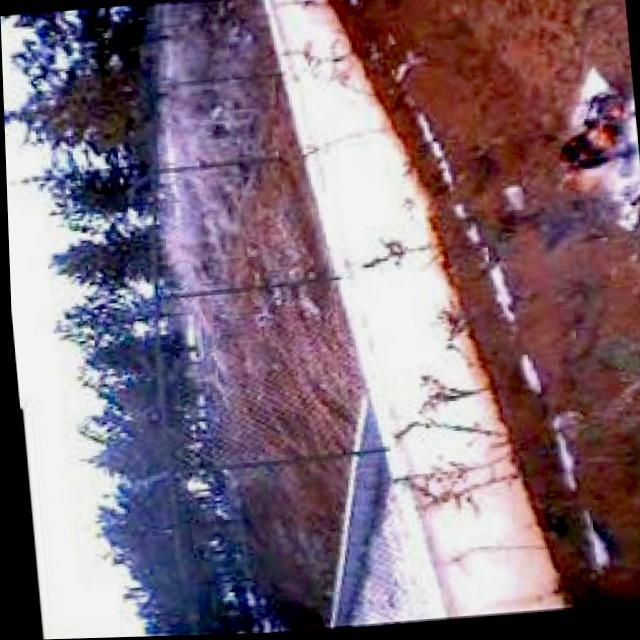Fire: (541, 82, 640, 206)
